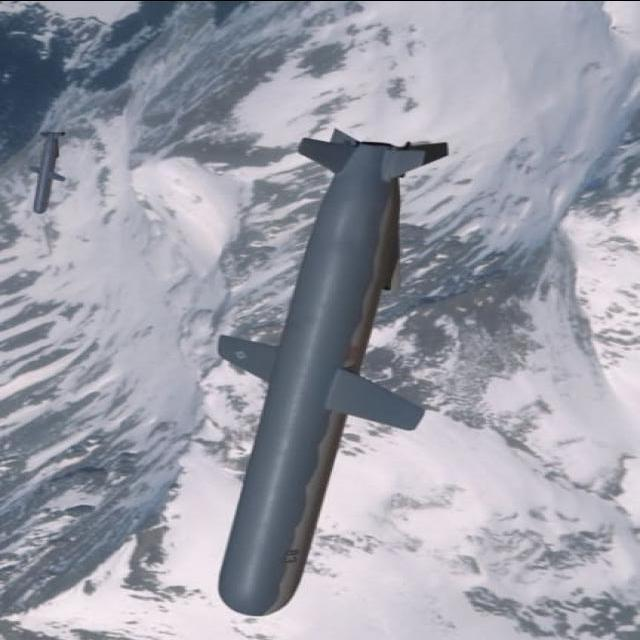missile: (212, 128, 438, 614), (23, 128, 66, 216)
